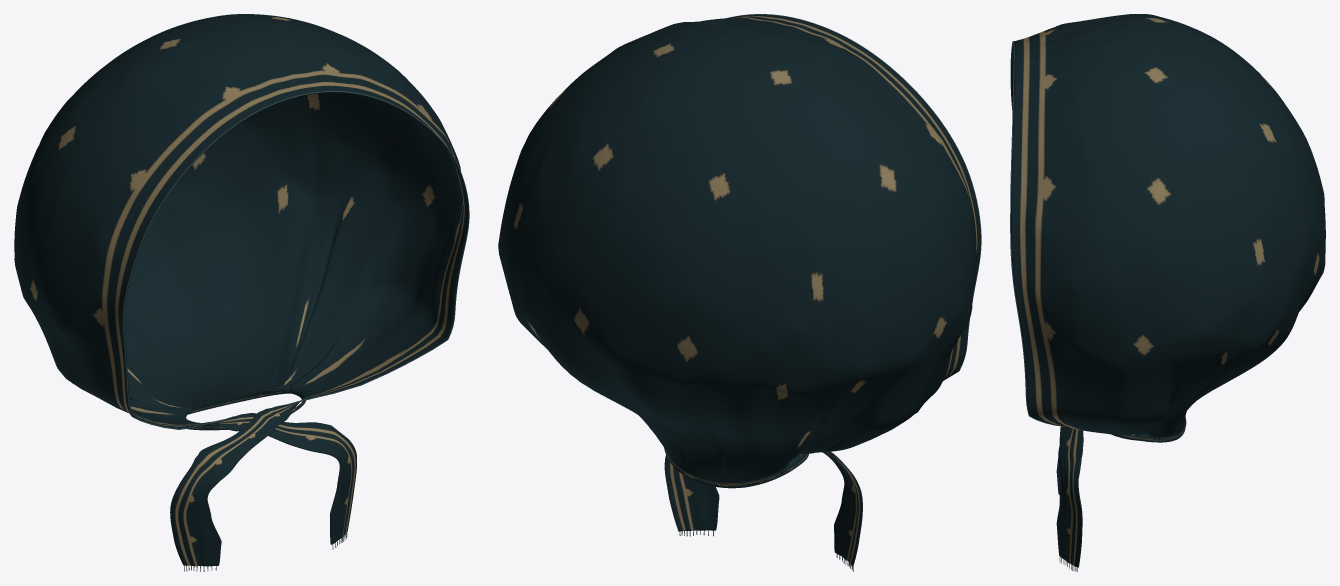
File: Masculine-afro-tank-pashmina249-headgear.glb
3 renders of one model, left to right at view 1: azimuth 30°, elevation 25°; view 2: azimuth 150°, elevation 25°; view 3: azimuth 270°, elevation 25°, orthographic. The views are drawn at different scales.
Visible parts, largest first — view 1: 226 headgear / Headwear / continuous woven pashmina239, 226 headgear / Headwear / face edge239; view 2: 226 headgear / Headwear / continuous woven pashmina239, 226 headgear / Headwear / face edge239; view 3: 226 headgear / Headwear / continuous woven pashmina239, 226 headgear / Headwear / face edge239.
Part boxes in pixels (x1,y1,x2,y2): 226 headgear / Headwear / continuous woven pashmina239: (14,14,468,566); 226 headgear / Headwear / face edge239: (122,91,469,429); 226 headgear / Headwear / continuous woven pashmina239: (498,14,980,566); 226 headgear / Headwear / face edge239: (726,14,981,380); 226 headgear / Headwear / continuous woven pashmina239: (1011,14,1325,567); 226 headgear / Headwear / face edge239: (1010,41,1059,426).
Size of the model in its own units: 1.24 by 1.5 by 0.8609.
3 materials, 1 textured.
